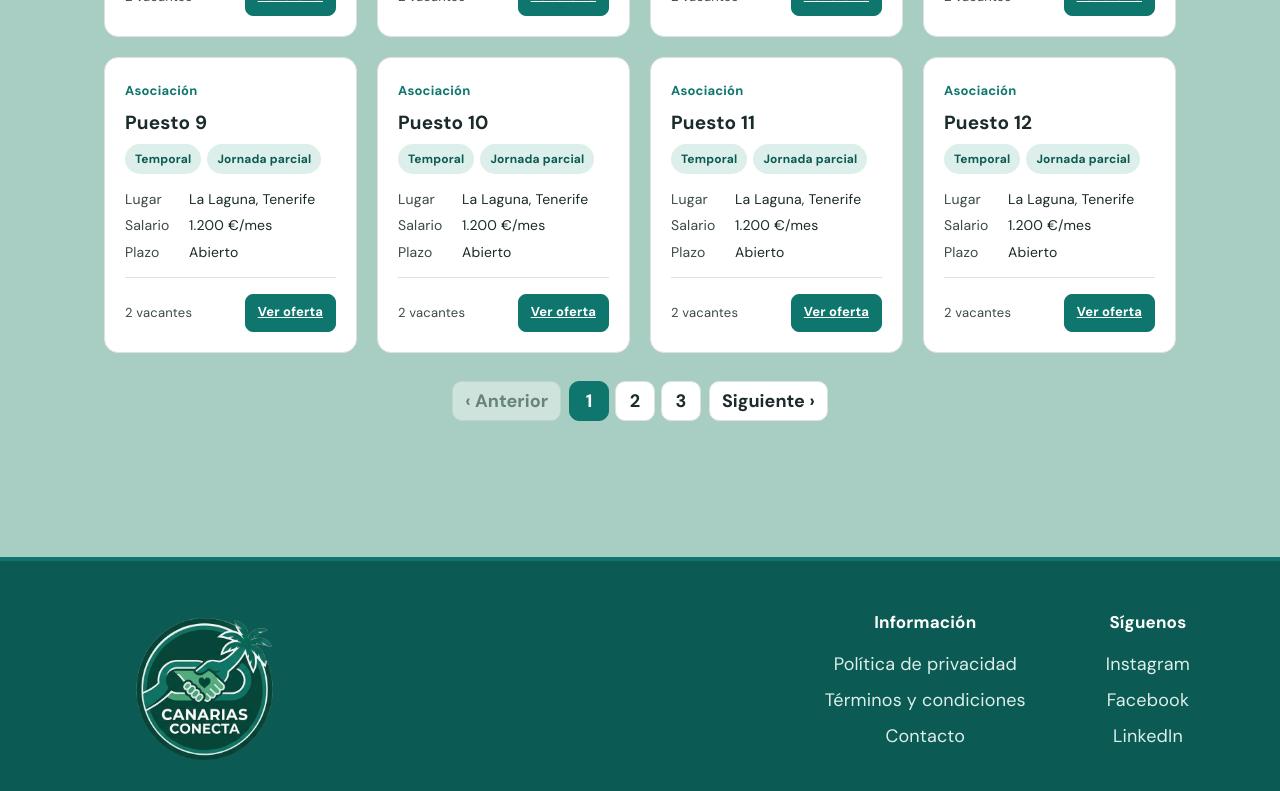
Test: Empleo (voluntario): paginacion del catalogo › si la pagina pedida se ha quedado vacia, salta a la ultima
(page scrolled)
Click the button named "Página 3" at (681, 401), box [661,381,701,421]
(page scrolled)
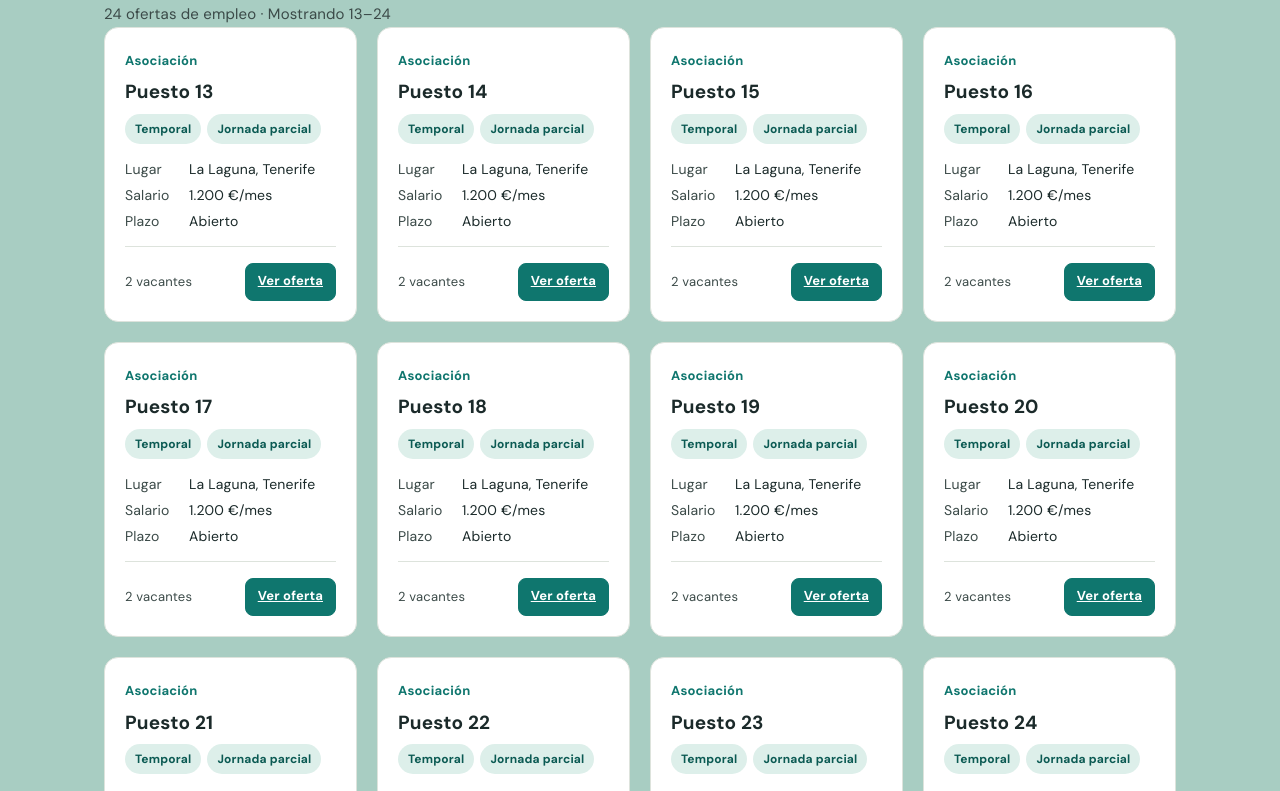
Check: the text "24 ofertas de empleo · Mostrando 13–24" is shown, box [104,4,391,24]
